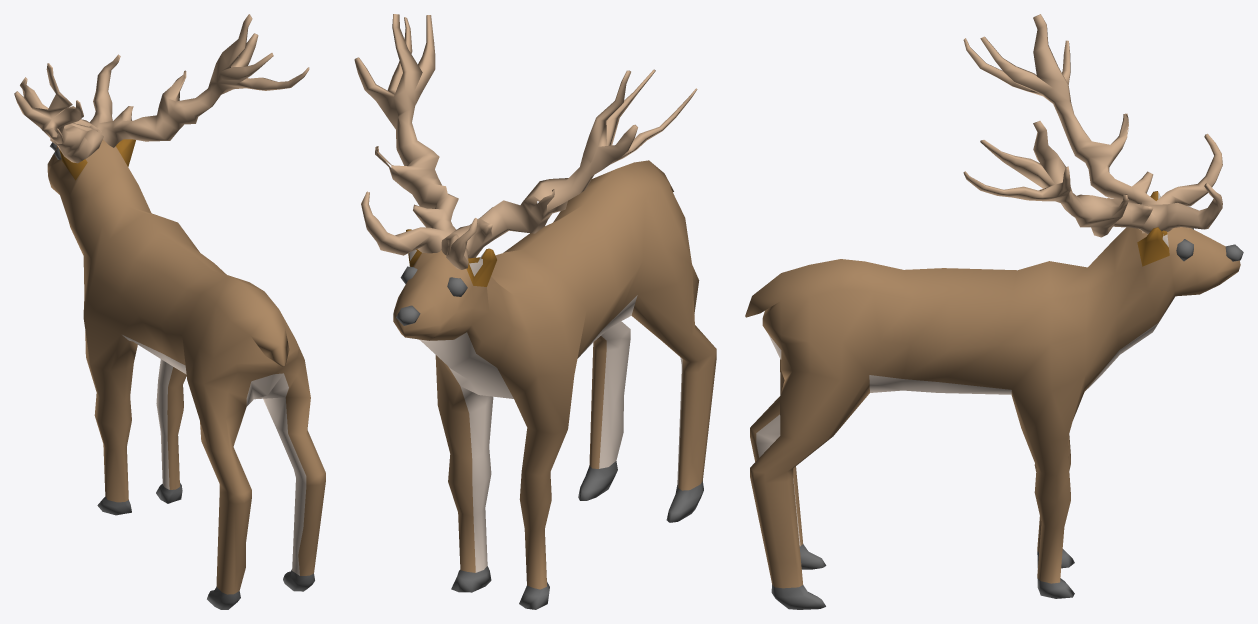
3 views of the same model, side by side, from view 1: azimuth 30°, elevation 25°; view 2: azimuth 150°, elevation 25°; view 3: azimuth 270°, elevation 25° (orthographic). The views are drawn at different scales.
Visible parts, largest first — view 1: Deer.1; view 2: Deer.1; view 3: Deer.1.
Part boxes in pixels (left/top/right/bottom): Deer.1: left=14, top=14, right=325, bottom=609; Deer.1: left=354, top=14, right=716, bottom=609; Deer.1: left=745, top=14, right=1243, bottom=609.
Size of the model in its own units: 228 by 411 by 358.
Materials: 1 (1 with a texture image).
